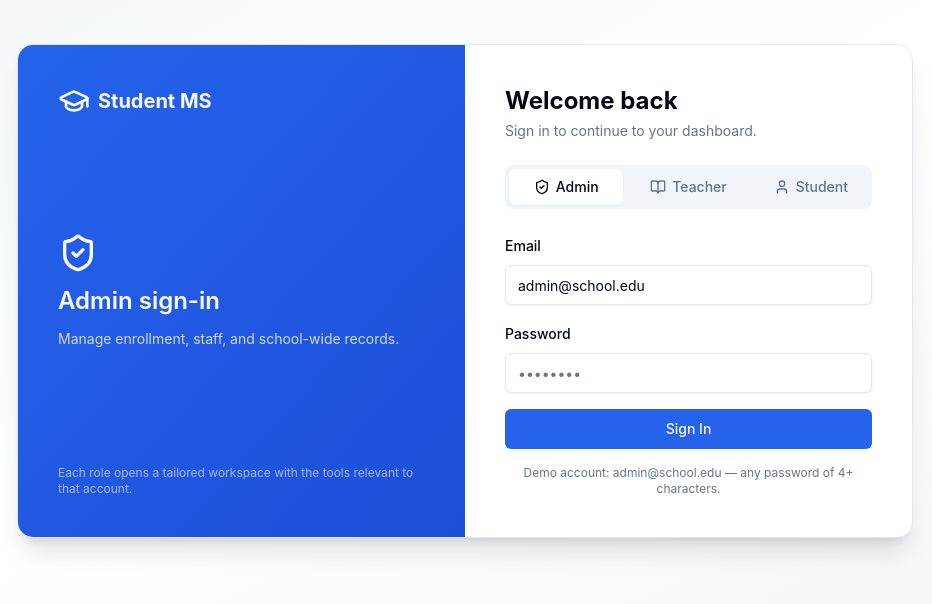
Test: App › shows an error for an unknown account
Step 1. Replace the text in the field labelled "Email" with "nobody@school.edu" → (688, 285), box [505,265,872,305]
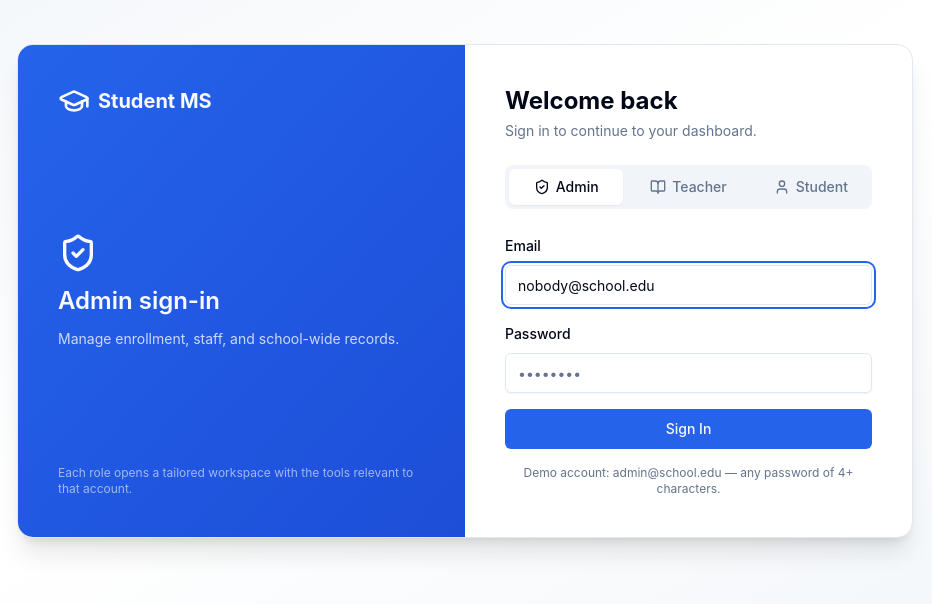
Step 2. Type "anything123" into the password field labelled "Password" → (688, 373), box [505,353,872,393]
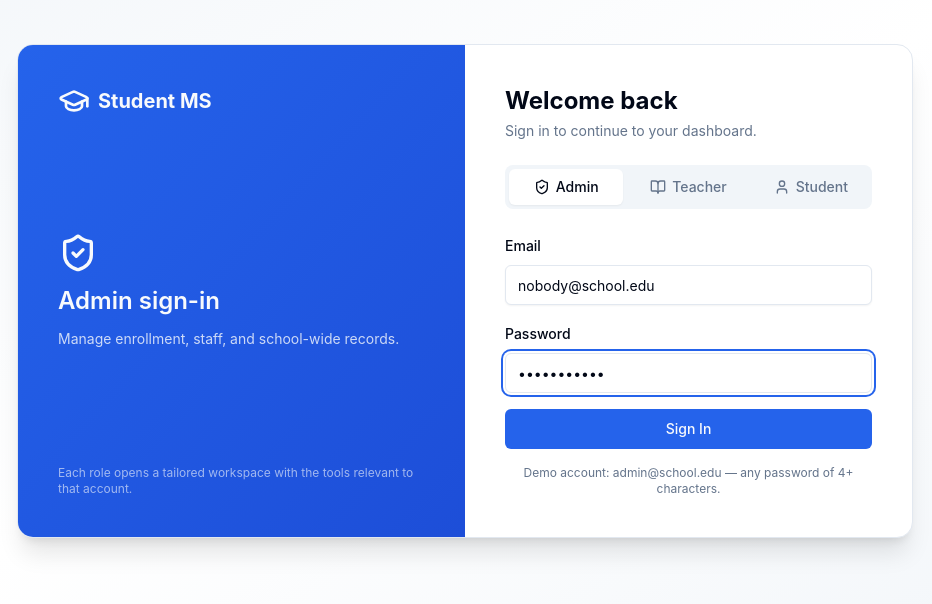
Step 3. Click the button "Sign In" → (688, 429), box [505,409,872,449]
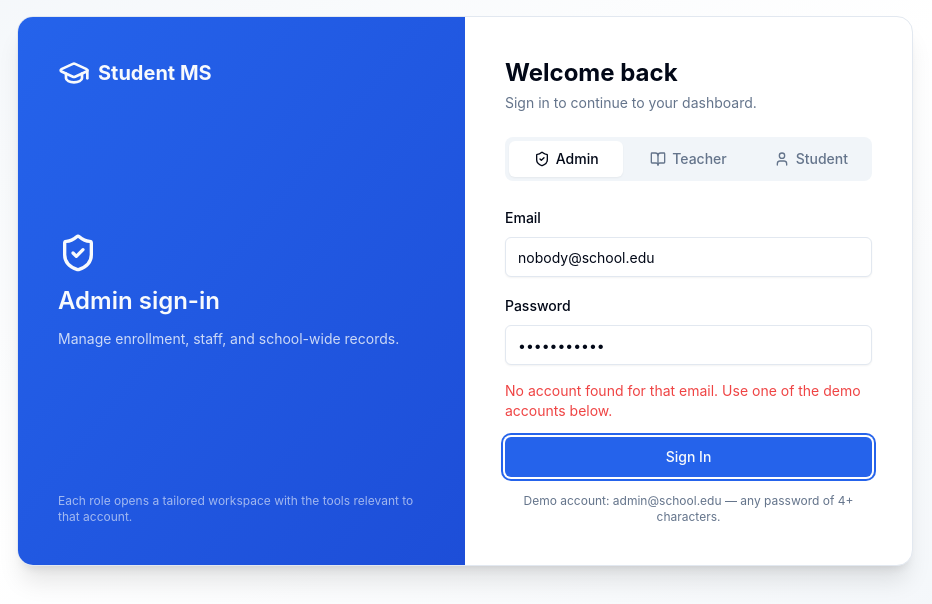
Expected: the text "No account found" is shown, [505,382,861,419]
